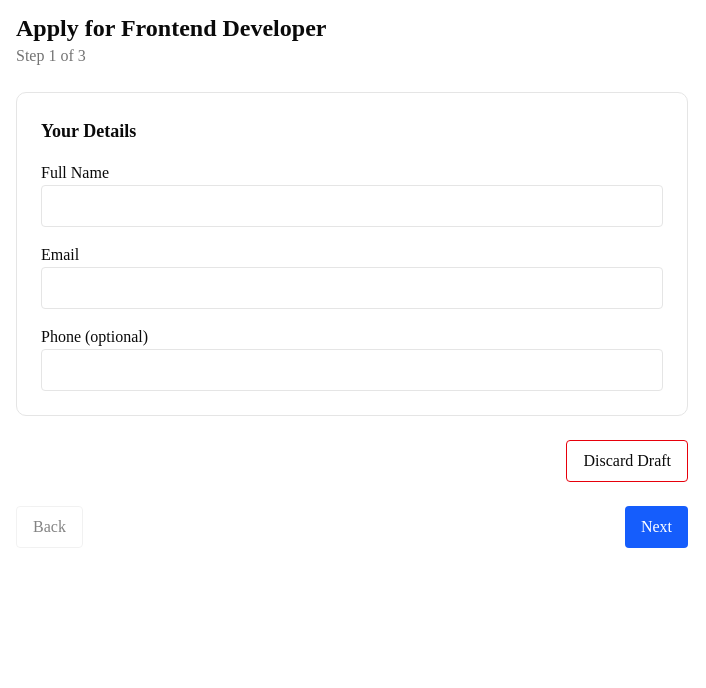
Scenario: moves to step 2 after entering valid details
Type "John Smith" into the field labelled "Full Name".
click(352, 206); type("John Smith")  # box [41,185,663,227]
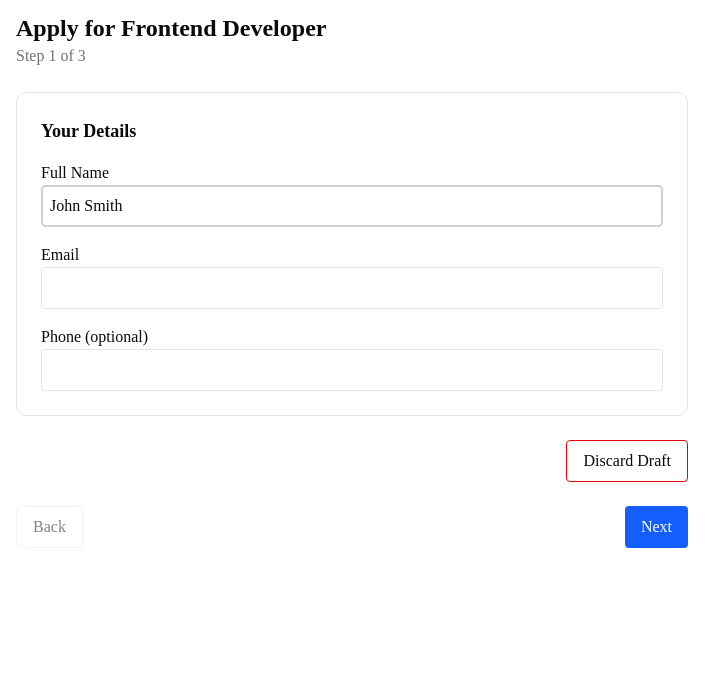
Type "john@example.com" into the field labelled "Email".
click(352, 288); type("john@example.com")  # box [41,267,663,309]
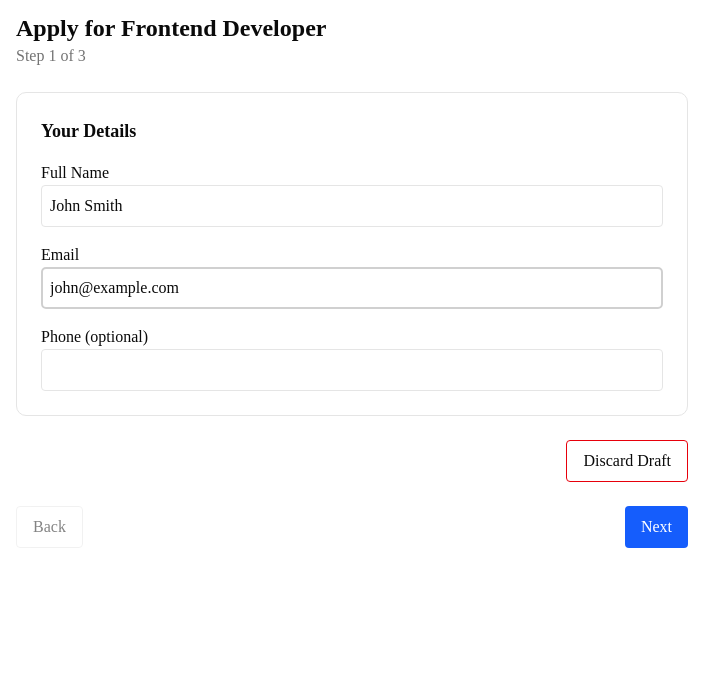
Click the button "Next".
click(656, 527)  # box [625,506,688,548]
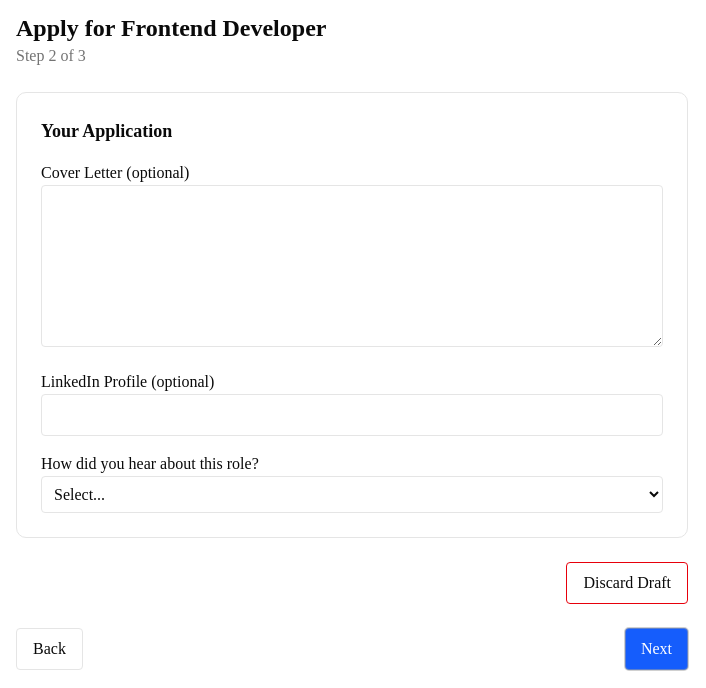
Check: the heading "Your Application" is shown, box [41,121,172,141]
